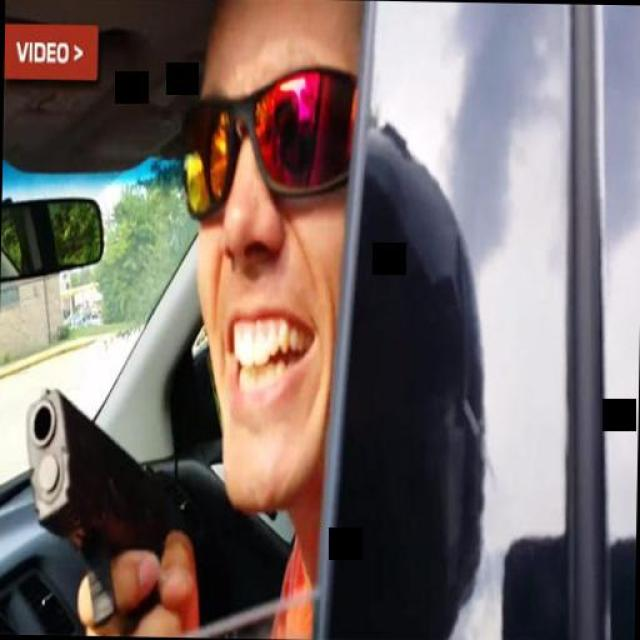gun: (20, 385, 194, 617)
